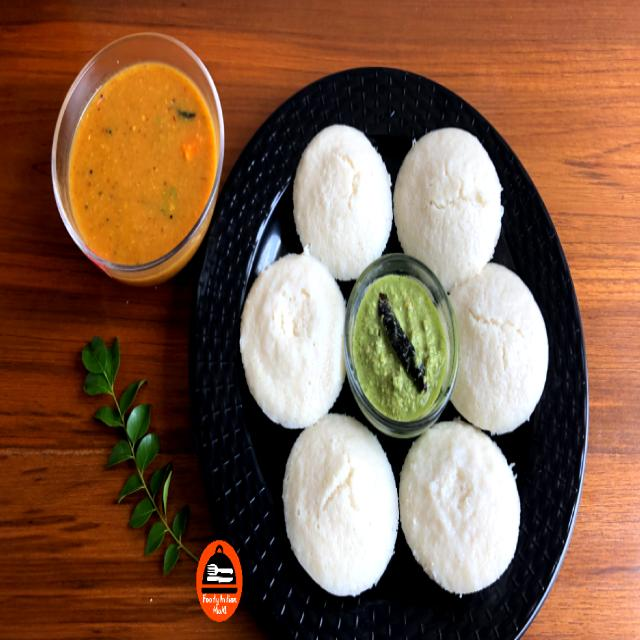IDLI: (239, 124, 550, 600)
